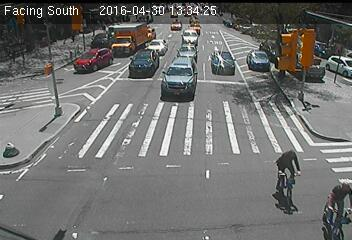neg: (267, 144, 315, 208), (310, 173, 350, 227), (61, 59, 97, 108), (191, 142, 220, 181), (223, 95, 252, 134), (5, 132, 33, 169), (256, 45, 282, 80), (19, 40, 44, 74), (99, 132, 123, 164), (122, 187, 145, 217), (300, 66, 322, 97), (113, 68, 135, 98), (178, 34, 200, 64), (152, 127, 174, 156), (55, 176, 76, 205), (217, 49, 234, 71)
